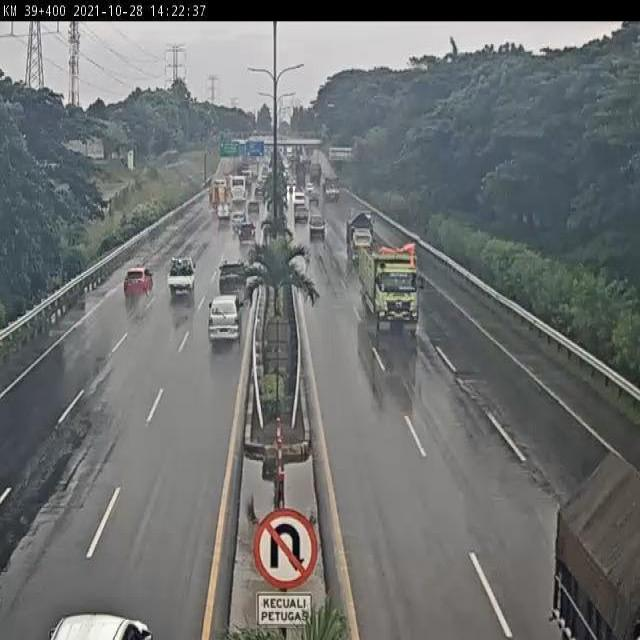car: (169, 254, 200, 294), (309, 217, 327, 244)
truck-l-: (355, 242, 423, 334)
truck-s-: (347, 211, 376, 269)
